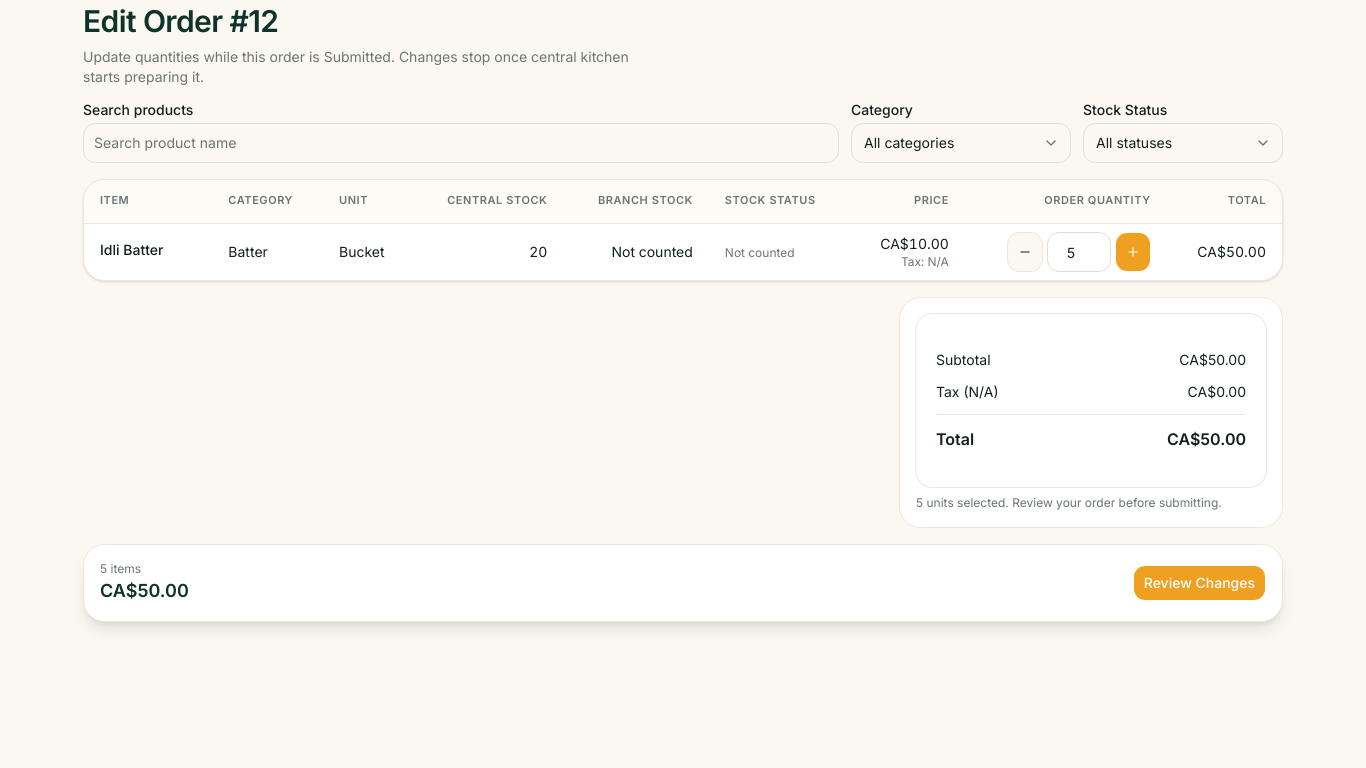
Test case: retains the edited quantities if central kitchen advances the order before saving
Click the button "Review Changes": (1199, 583) [1133,565,1266,601]
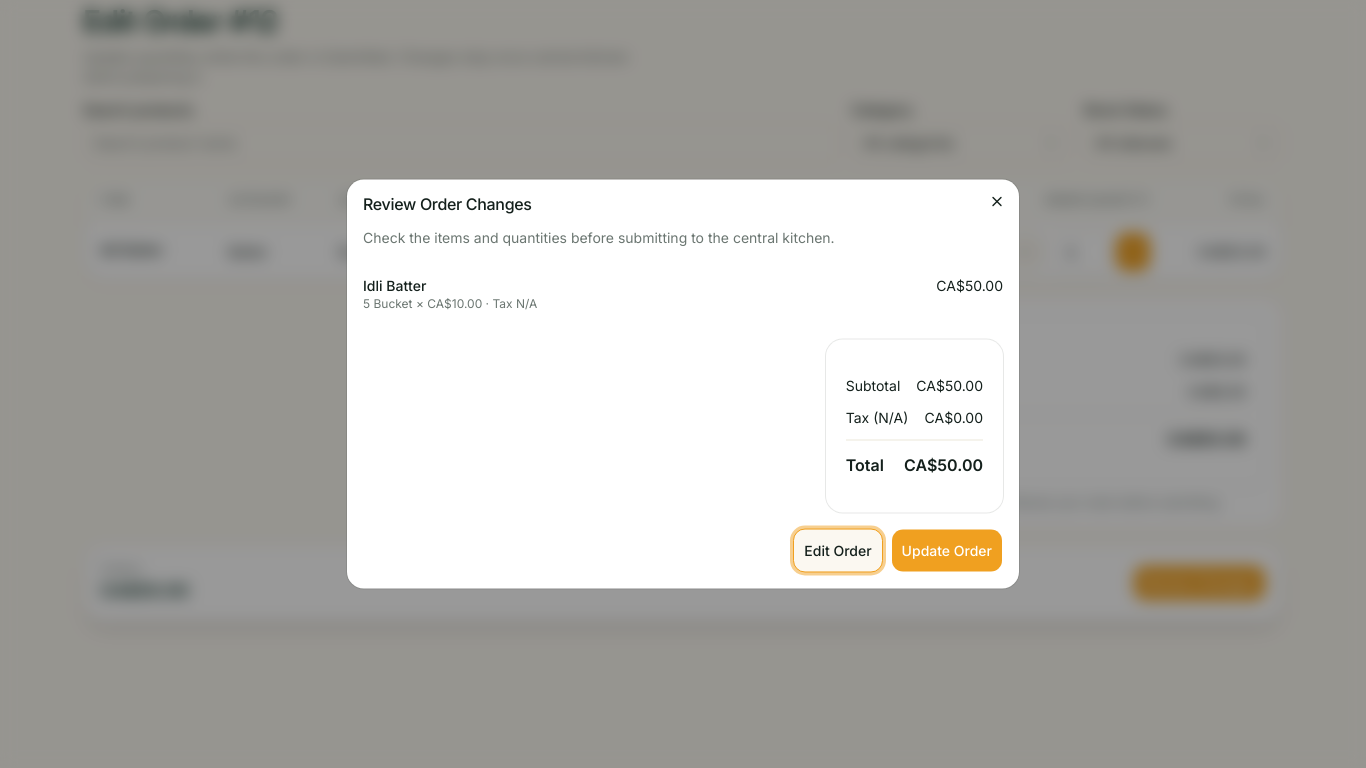
Click the button "Update Order": (947, 550) [891,528,1003,572]
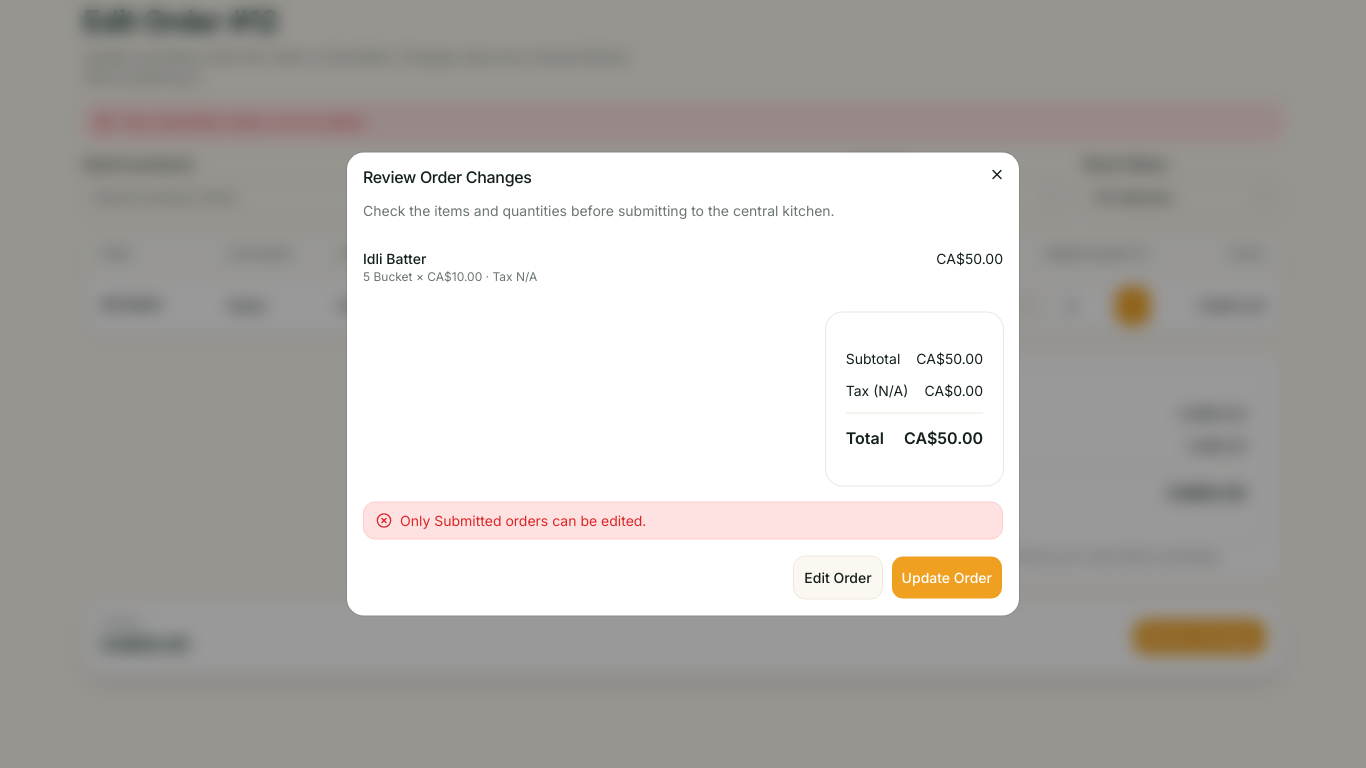
Result: the text "Only Submitted orders can be edited." is shown at [400,510,646,530]
